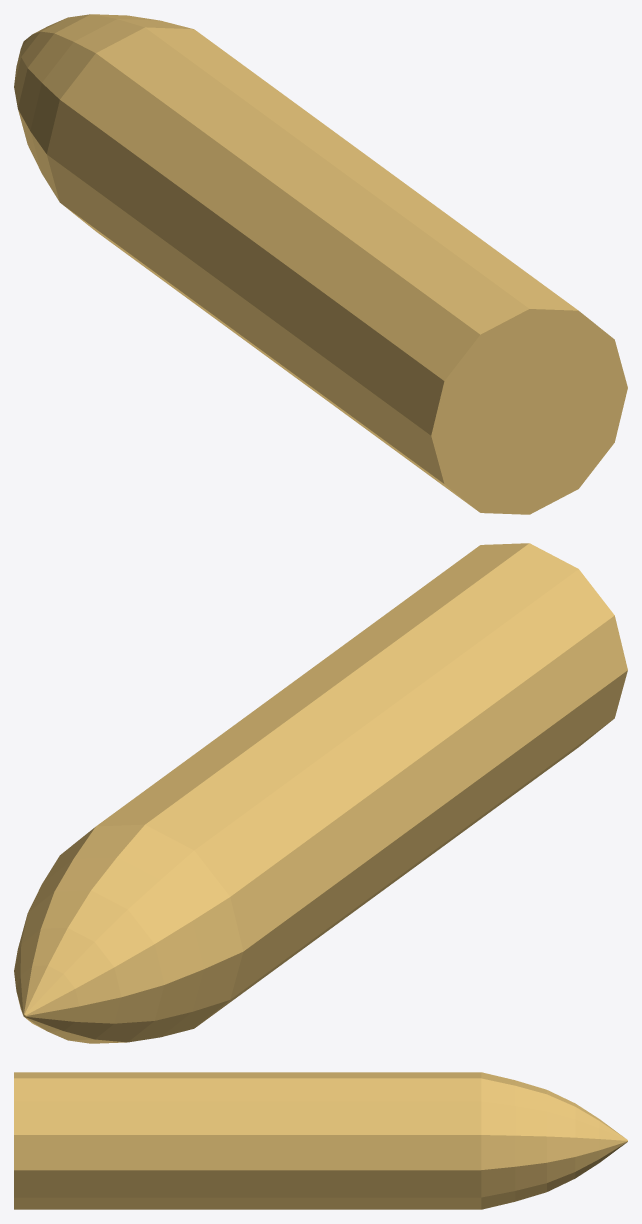
Rendered from standard_shell_v1.fbx.
The picture shows the model from 3 angles, top to bottom: view 1: azimuth 30°, elevation 25°; view 2: azimuth 150°, elevation 25°; view 3: azimuth 270°, elevation 25°; orthographic projection. The views are drawn at different scales.
Visible parts, largest first — view 1: Cylinder; view 2: Cylinder; view 3: Cylinder.
Part boxes in pixels (x1=…): Cylinder: x1=14, y1=14, x2=627, y2=514; Cylinder: x1=14, y1=543, x2=627, y2=1043; Cylinder: x1=14, y1=1072, x2=627, y2=1209.
Size of the model in its own units: 24 by 24 by 107.
